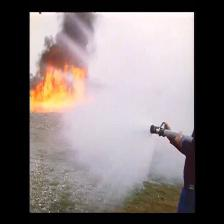fire: (32, 63, 92, 113)
